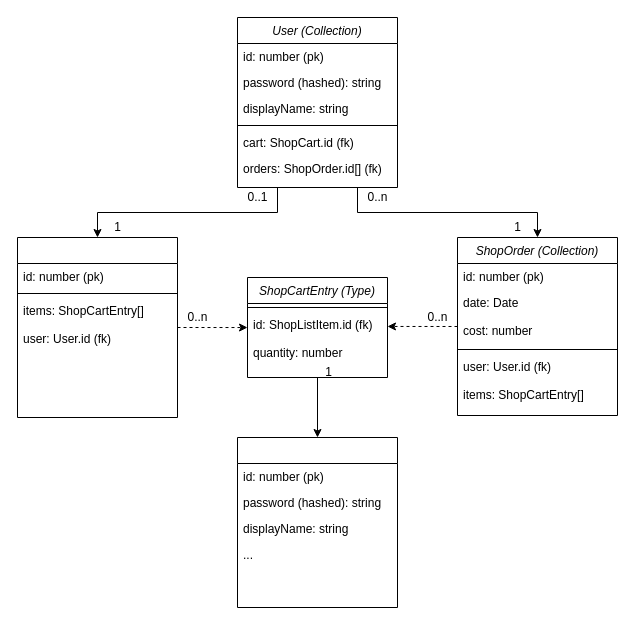
Some shapes in this 635 by 625 pixel diagram are drawn without their labels. Each missing label, with the box of its shape:
ShopCart (Collection): (16, 236, 178, 418)
ShopListing (Collection): (236, 436, 398, 608)
